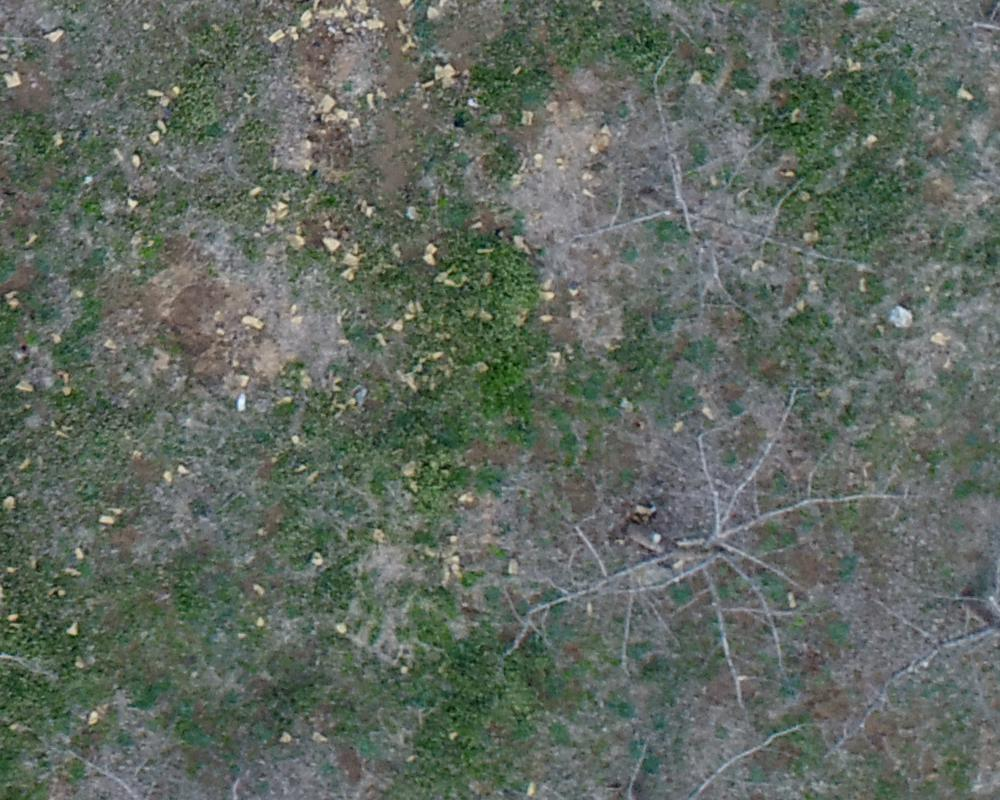apple: (520, 406, 885, 695), (539, 53, 876, 340), (902, 493, 990, 738)
